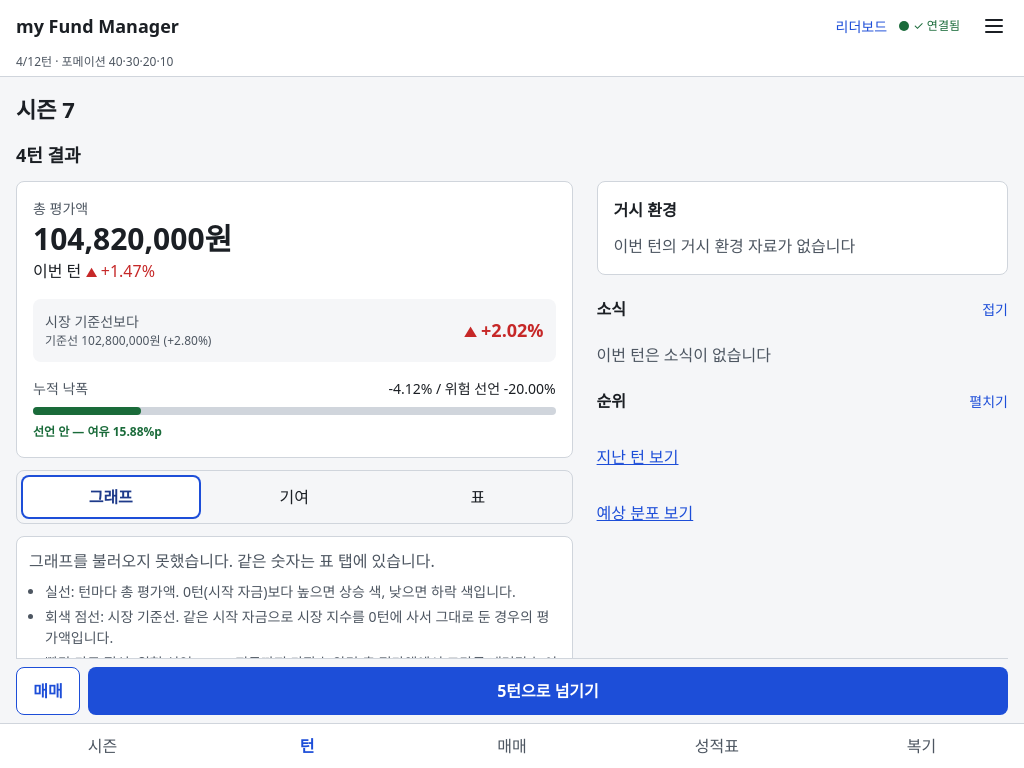
turn screen when the chart fails › keeps the screen and the table tab, with a note in the chart tab
Expected: the heading "4턴 결과" is shown, [16,143,81,167]
Expected: the text "그래프를 불러오지 못했습니다. 같은 숫자는 표 탭에 있습니다." is shown, [29,550,435,572]
Click the tab "표".
click(478, 497)  # box [388,475,568,519]
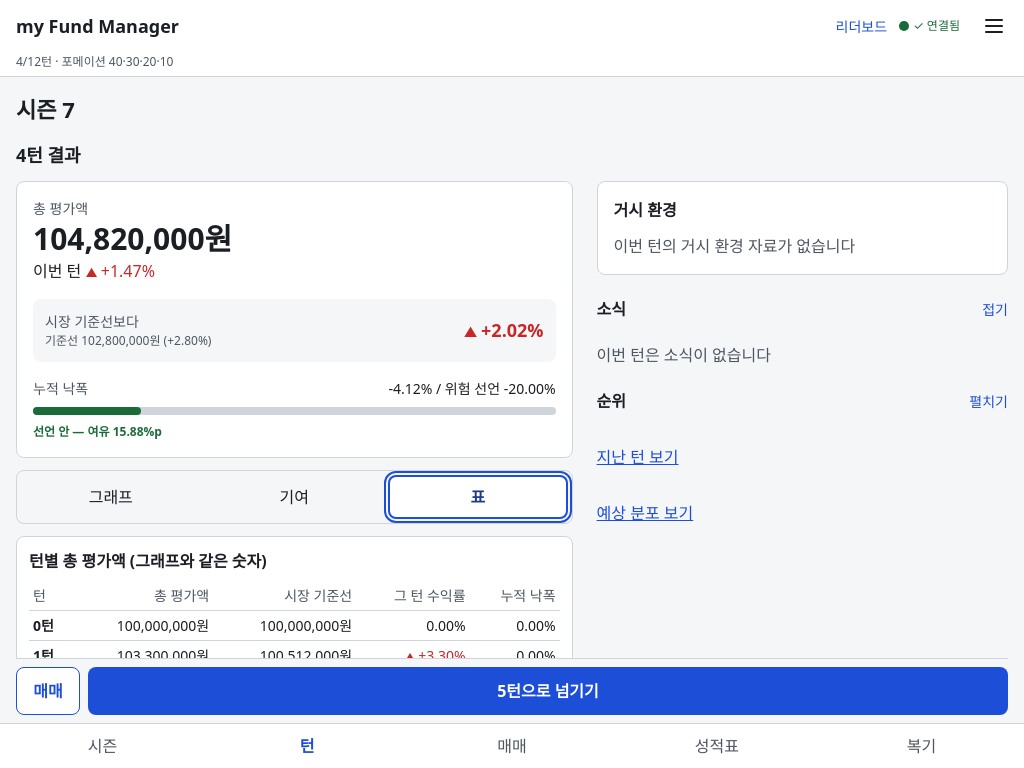
Now the number of rows is 6, box [29,581,560,610]; [29,610,560,640]; [29,640,560,670]; [29,670,560,700]; [29,700,560,730]; [29,730,560,760]
Click the tab "기여".
click(294, 497)  # box [204,475,384,519]
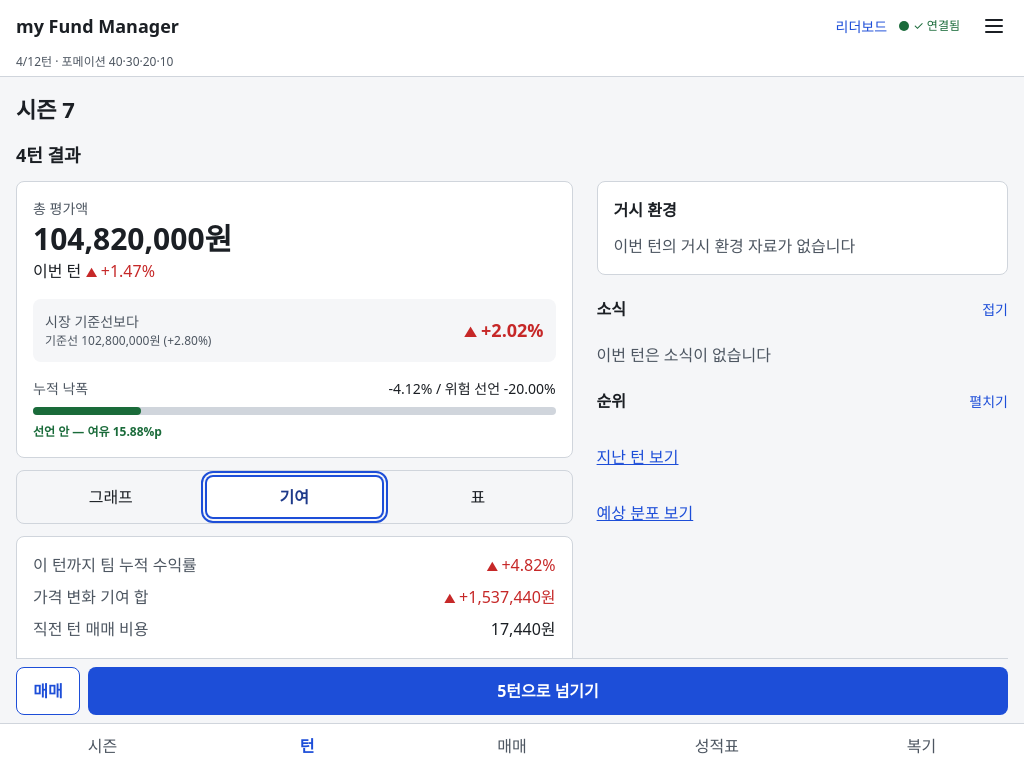
Expected: the button "5턴으로 넘기기" is shown, [88,667,1008,715]
Now the text "가격 변화 기여 합" is shown, box [33,585,148,609]
